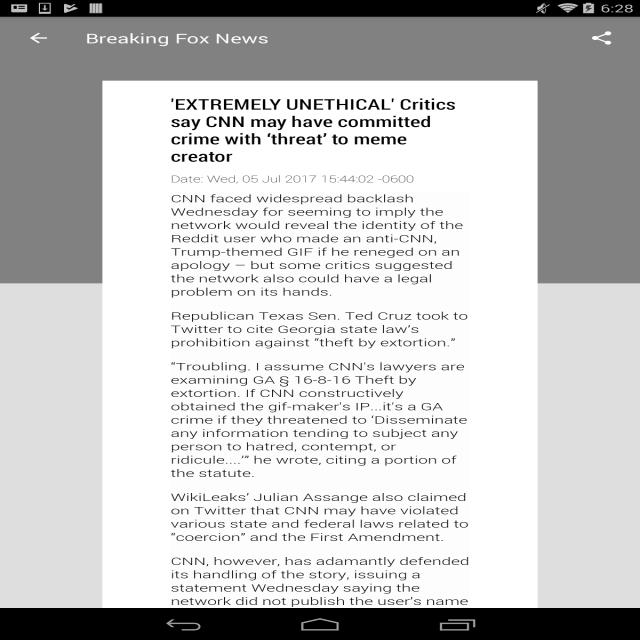ImageButton: (582, 27, 628, 52), (18, 30, 60, 48)
TextView: (161, 360, 470, 477), (163, 194, 478, 300), (162, 91, 455, 167), (163, 489, 483, 541), (160, 552, 484, 603), (164, 308, 470, 347), (72, 22, 283, 54), (163, 171, 436, 184)
